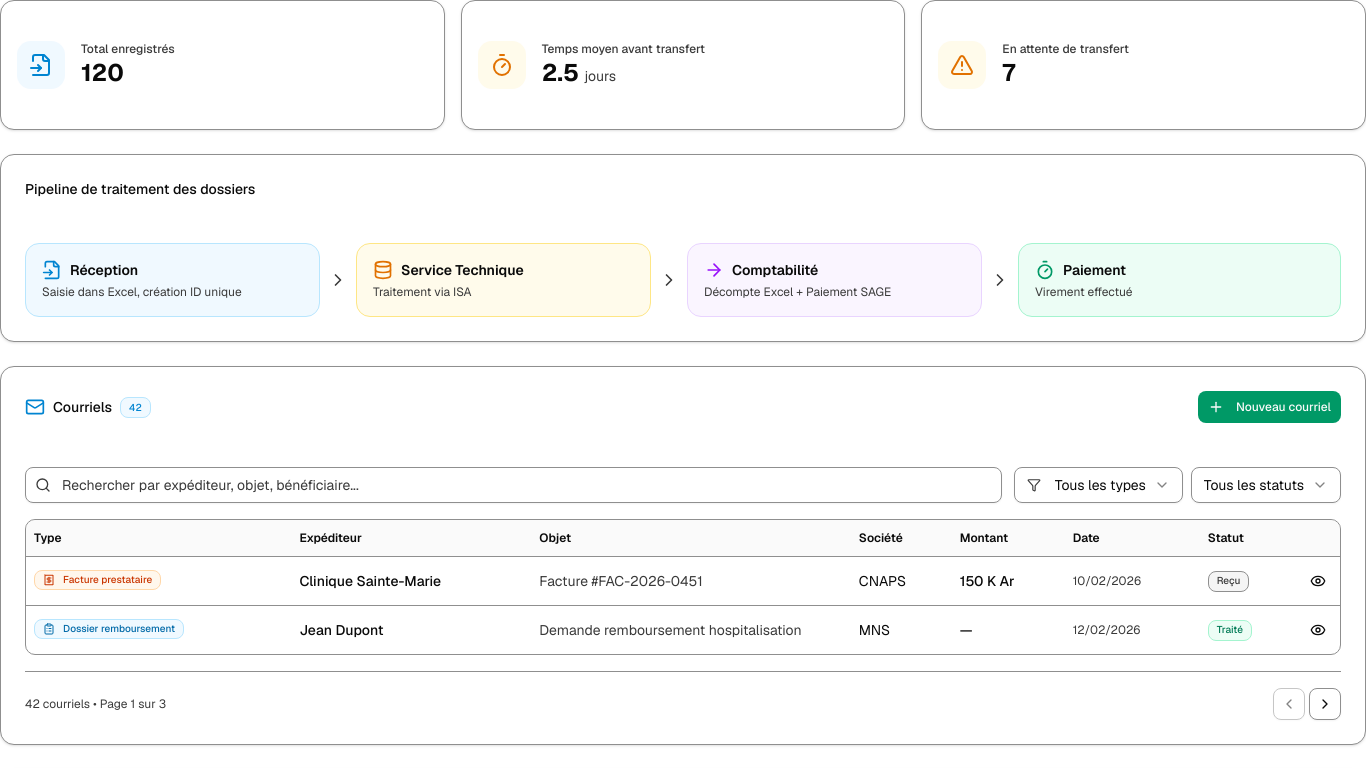
Test: Réception — détail, édition et suppression › ouvre la fiche détail depuis la ligne du tableau
The image size is (1366, 768).
Expected: the text "Clinique Sainte-Marie" is shown, [291,556,531,605]
Click the text "Jean Dupont" at (341, 630), box [291,605,531,654]
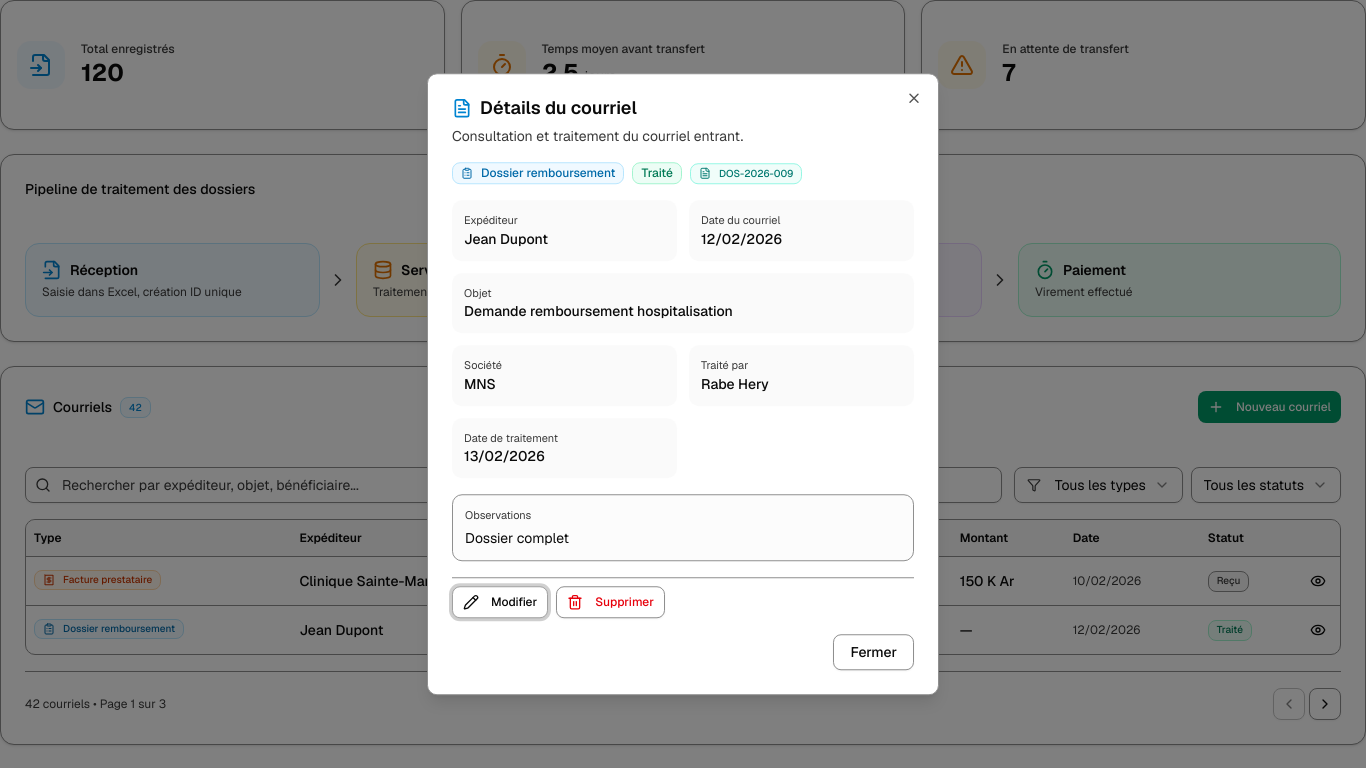
Expected: the heading "Détails du courriel" is shown, [452,96,637,119]
Expected: the text "Dossier remboursement" is shown, [452,162,624,184]
Expected: the text "Traité" is shown, [632,162,682,184]
